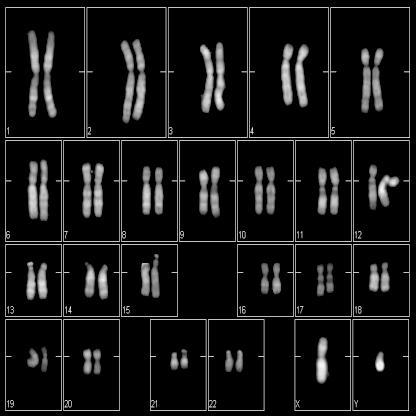1: (42, 27, 60, 122), (26, 26, 40, 120)
10: (252, 160, 266, 221), (266, 159, 279, 222)
11: (328, 162, 343, 222), (316, 163, 328, 220)
12: (377, 161, 401, 215), (366, 161, 378, 213)
13: (24, 258, 36, 306), (38, 258, 49, 306)
14: (96, 256, 112, 304), (82, 258, 96, 302)
15: (152, 249, 164, 301), (140, 258, 152, 300)
16: (272, 260, 286, 300), (258, 259, 271, 299)
17: (325, 261, 337, 302), (314, 260, 326, 300)
18: (382, 259, 393, 296), (370, 258, 380, 294)
19: (24, 340, 39, 377), (38, 339, 52, 378)
2: (132, 30, 148, 130), (119, 36, 133, 124)
20: (93, 344, 105, 380), (82, 344, 92, 378)
21: (170, 344, 180, 378), (181, 344, 189, 380)
22: (236, 344, 248, 382), (223, 345, 234, 381)
3: (213, 30, 228, 126), (199, 39, 214, 117)
4: (295, 27, 310, 125), (281, 37, 294, 115)
5: (372, 32, 386, 126), (356, 43, 372, 118)
6: (26, 154, 38, 226), (39, 146, 48, 233)
7: (92, 150, 106, 230), (79, 159, 93, 222)
8: (154, 152, 166, 230), (140, 161, 154, 221)
9: (209, 152, 223, 236), (199, 162, 208, 228)
X: (316, 332, 331, 390)
Y: (372, 346, 390, 378)
